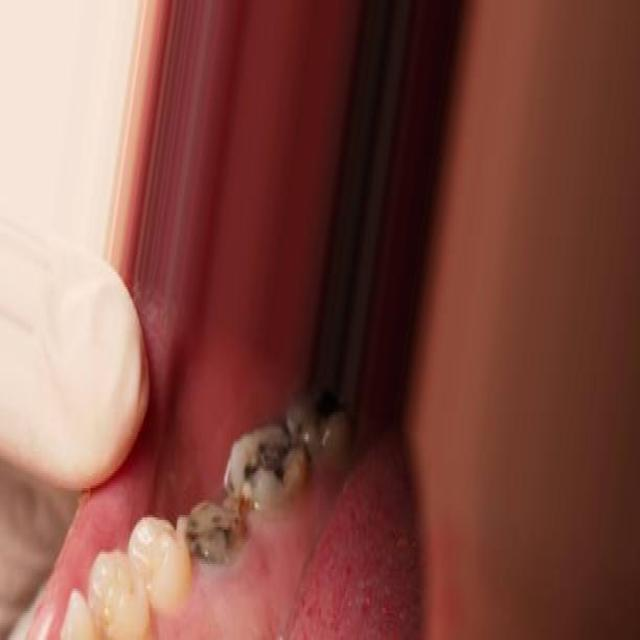caries: (182, 485, 244, 571), (239, 422, 291, 498), (304, 391, 341, 447)
